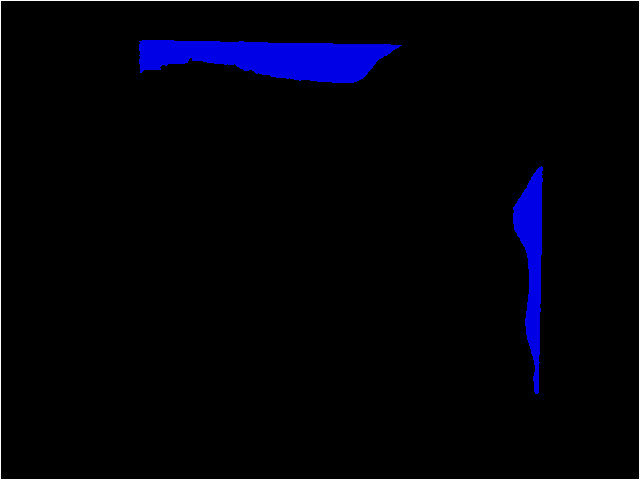defect: (137, 38, 403, 85), (512, 165, 544, 397)
